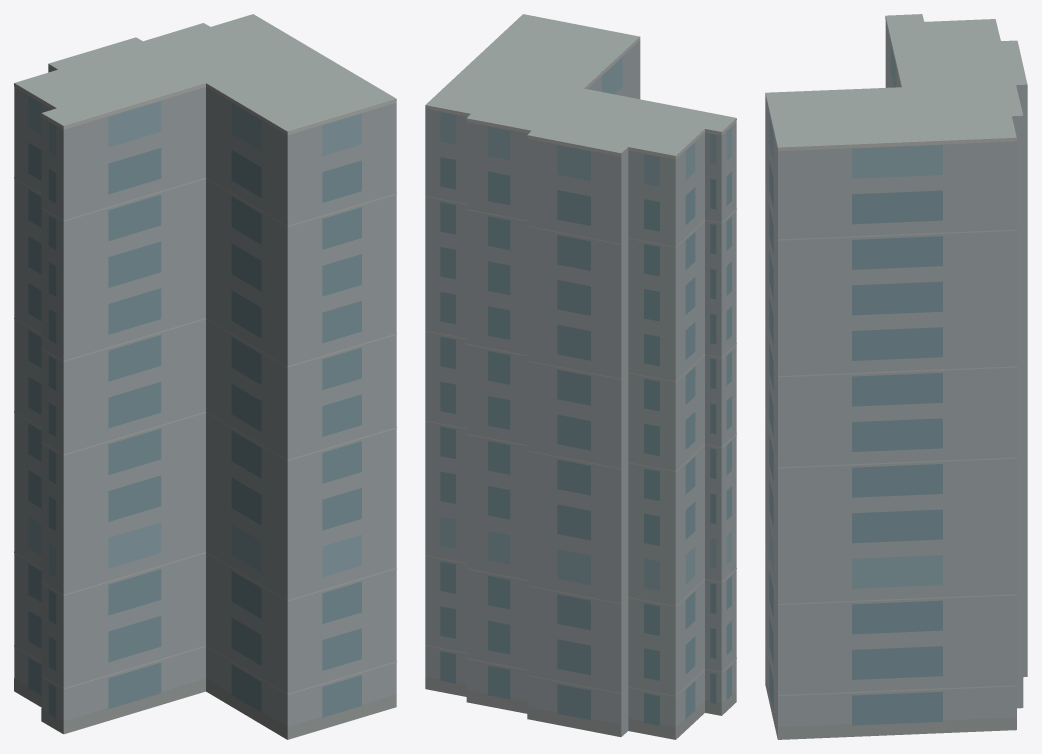
Rendered from survey-upis-32621886.glb.
3 views of the same model, side by side, from view 1: azimuth 30°, elevation 25°; view 2: azimuth 150°, elevation 25°; view 3: azimuth 270°, elevation 25° (orthographic). The views are drawn at different scales.
Parts seen in each view (by area): view 1: survey-upis-32621886.tmp; view 2: survey-upis-32621886.tmp; view 3: survey-upis-32621886.tmp.
Boxes of the visible parts, x1,y1,x2,y2 form: survey-upis-32621886.tmp: (14,14,396,739); survey-upis-32621886.tmp: (425,14,736,739); survey-upis-32621886.tmp: (765,14,1027,739).
Bounding box in the file's own units: 19.2 × 39.65 × 15.92.
